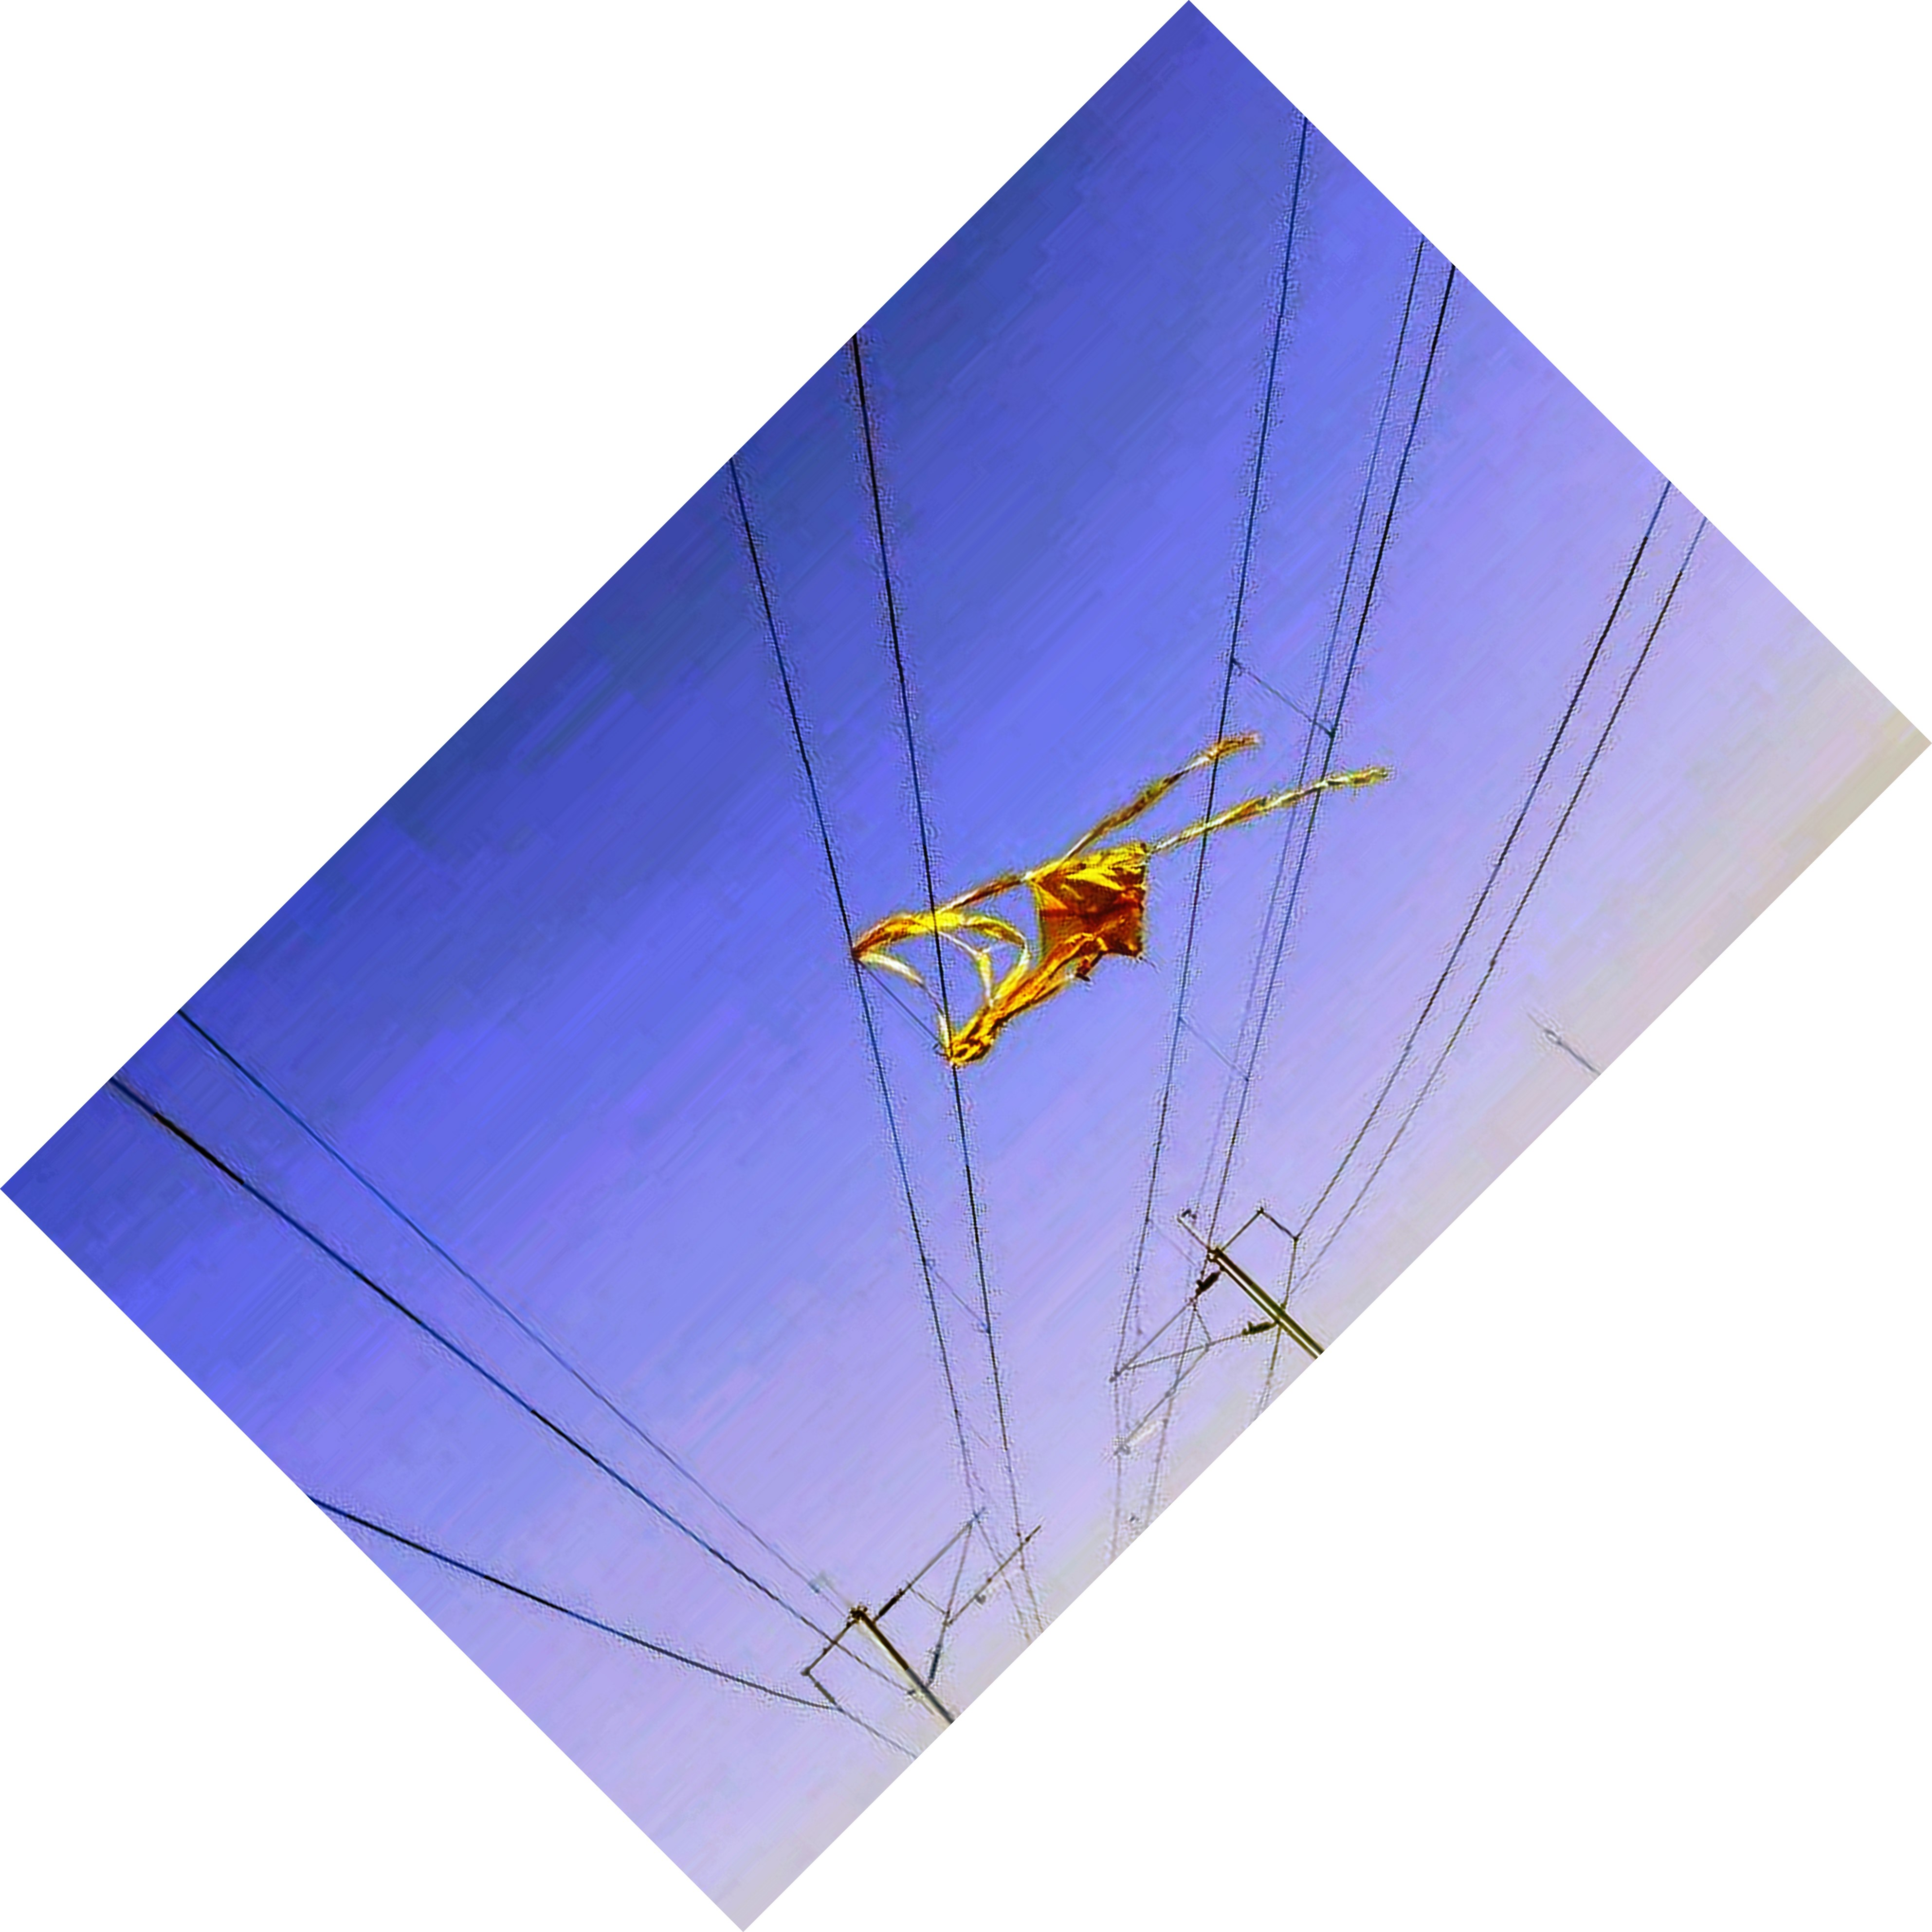wire foreign body: (846, 708, 1288, 1081)
